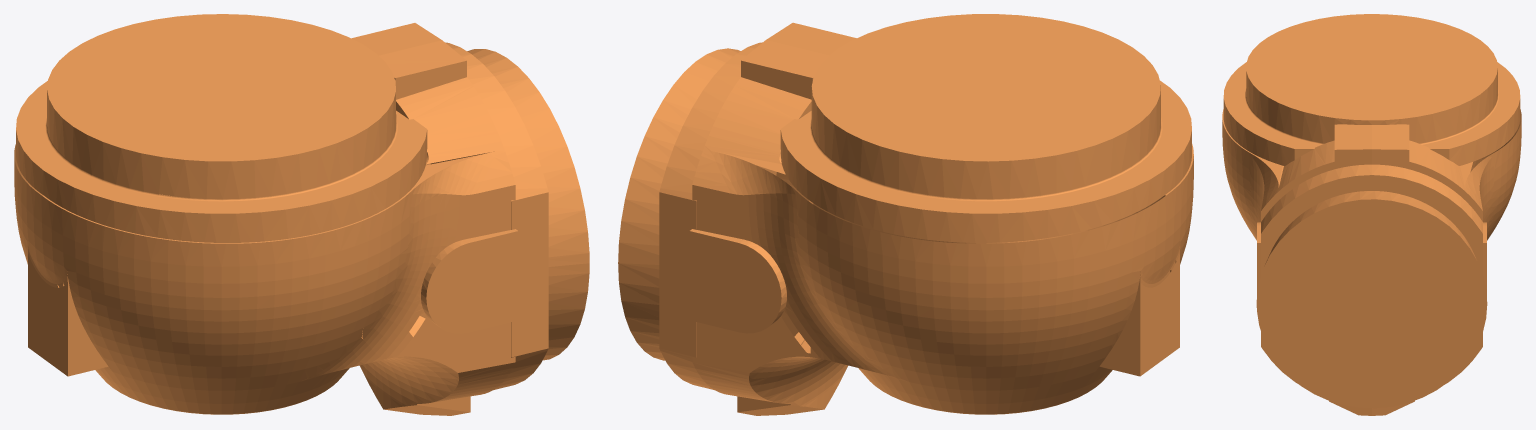
3 views of the same model, side by side, from view 1: azimuth 30°, elevation 25°; view 2: azimuth 150°, elevation 25°; view 3: azimuth 270°, elevation 25° (orthographic). The views are drawn at different scales.
Parts seen in each view (by area): view 1: /SketchUp/instance_0_001/ID12_007-mesh/0, /SketchUp/instance_0/ID4_008-mesh/0; view 2: /SketchUp/instance_0_001/ID12_007-mesh/0, /SketchUp/instance_0/ID4_008-mesh/0; view 3: /SketchUp/instance_0_001/ID12_007-mesh/0, /SketchUp/instance_0/ID4_008-mesh/0.
Part boxes in pixels (bbox=[...]): /SketchUp/instance_0_001/ID12_007-mesh/0: bbox=[14, 14, 548, 415]; /SketchUp/instance_0/ID4_008-mesh/0: bbox=[426, 49, 589, 360]; /SketchUp/instance_0_001/ID12_007-mesh/0: bbox=[659, 14, 1193, 415]; /SketchUp/instance_0/ID4_008-mesh/0: bbox=[618, 48, 808, 360]; /SketchUp/instance_0_001/ID12_007-mesh/0: bbox=[1222, 14, 1521, 415]; /SketchUp/instance_0/ID4_008-mesh/0: bbox=[1256, 191, 1487, 408].
Bounding box in the file's own units: 0.3125 × 0.2398 × 0.24.
